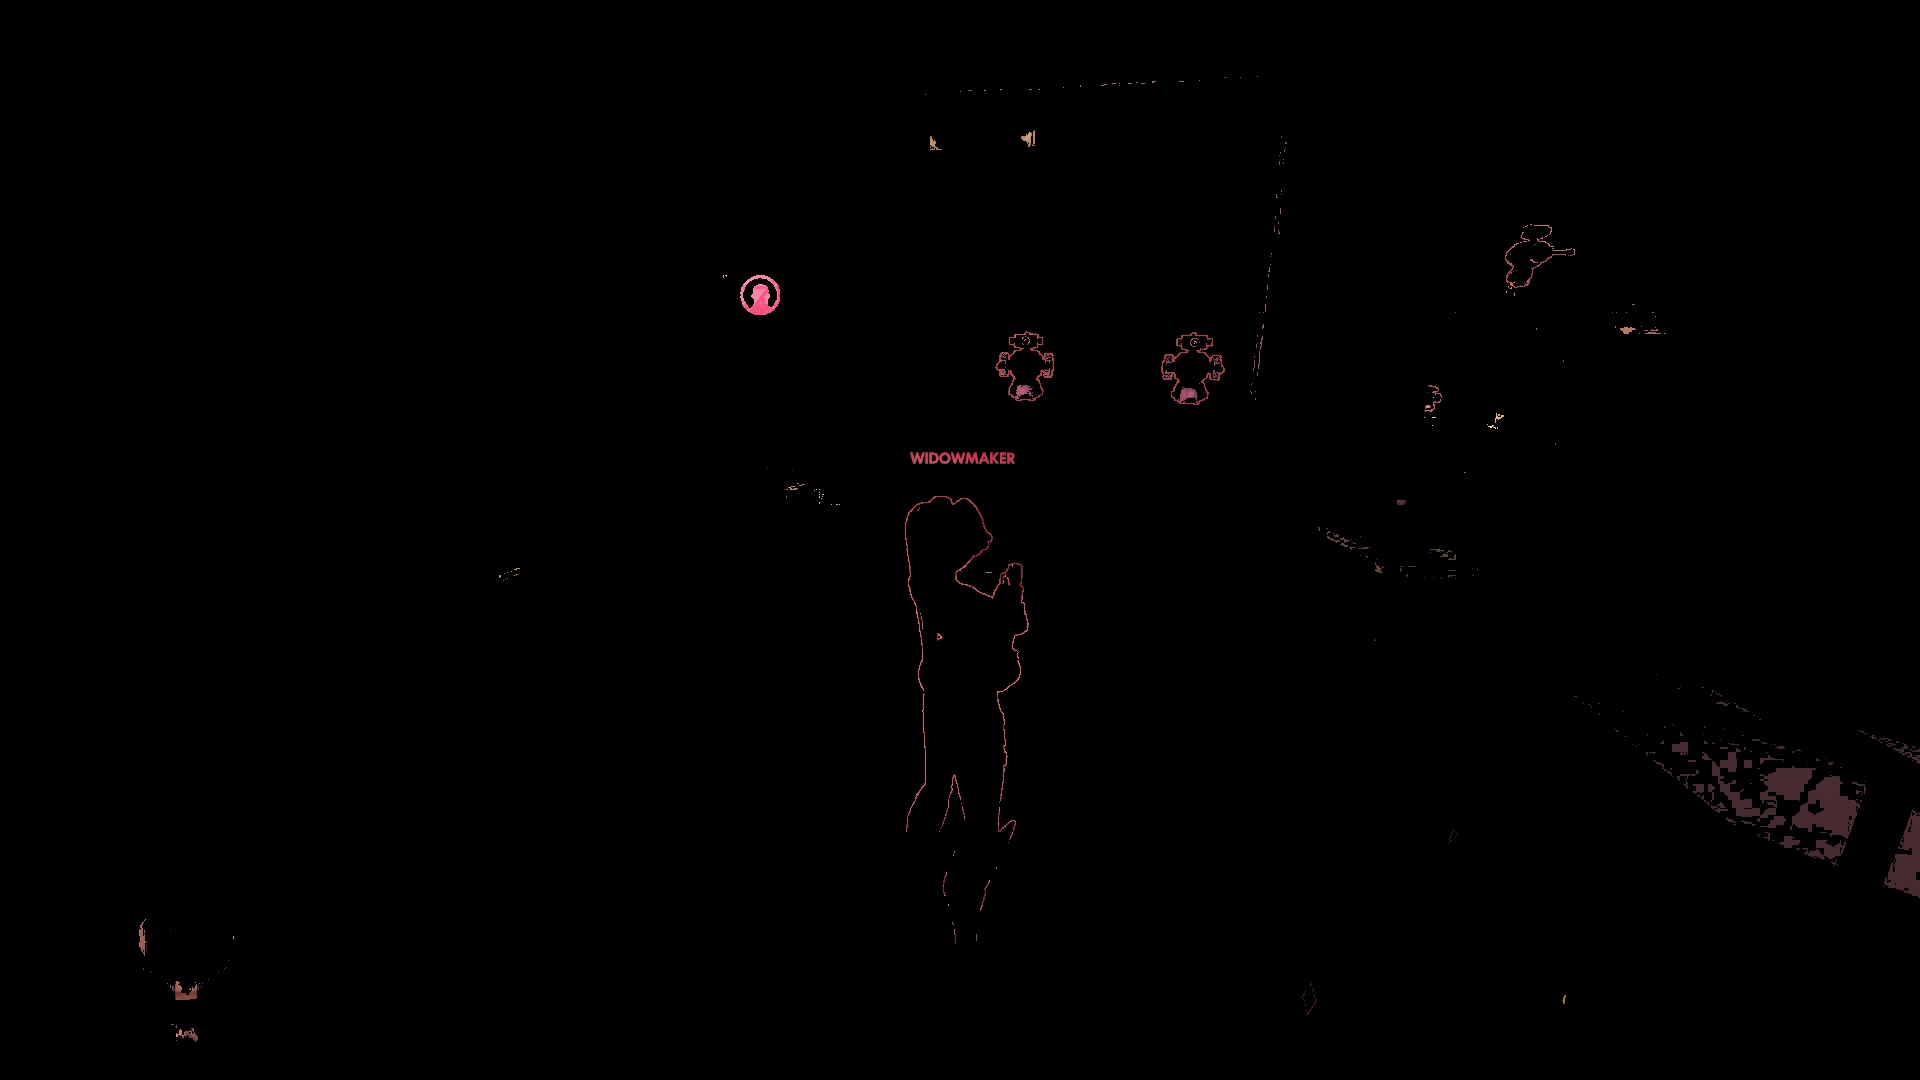widowmaker: (903, 495, 1030, 1025)
